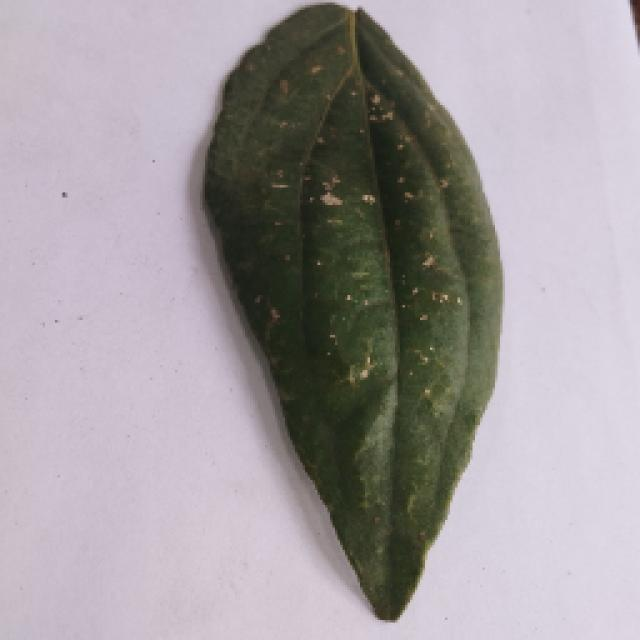pollu-disease: (200, 2, 500, 620)
